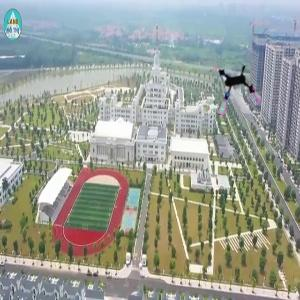drone: (204, 60, 266, 122)
